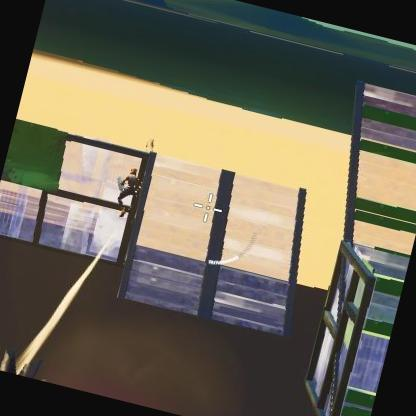person: (114, 172, 144, 214), (124, 167, 139, 186)
